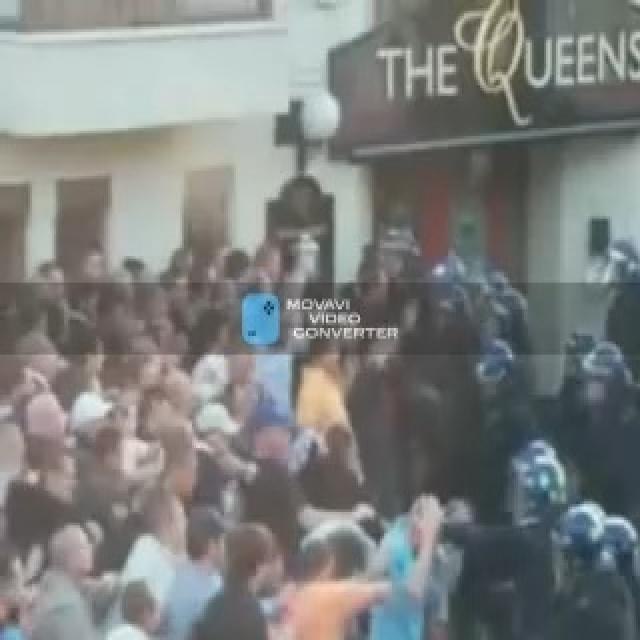non-voilence: (0, 208, 638, 637)
